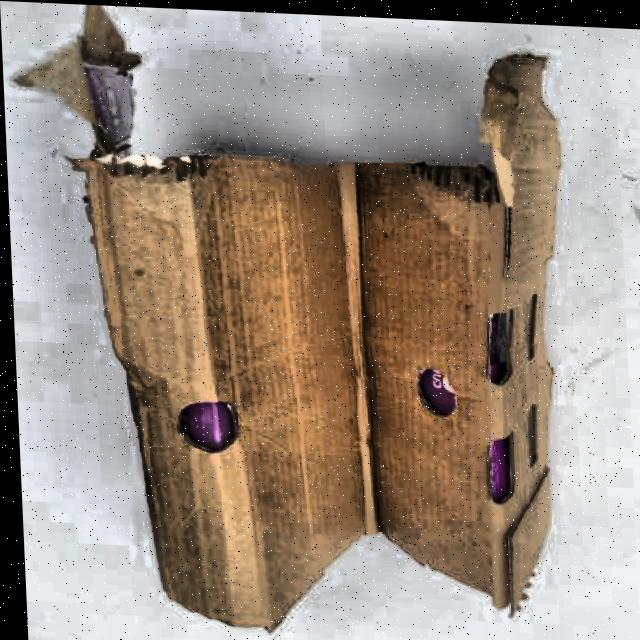cardboard: (348, 44, 587, 622)
